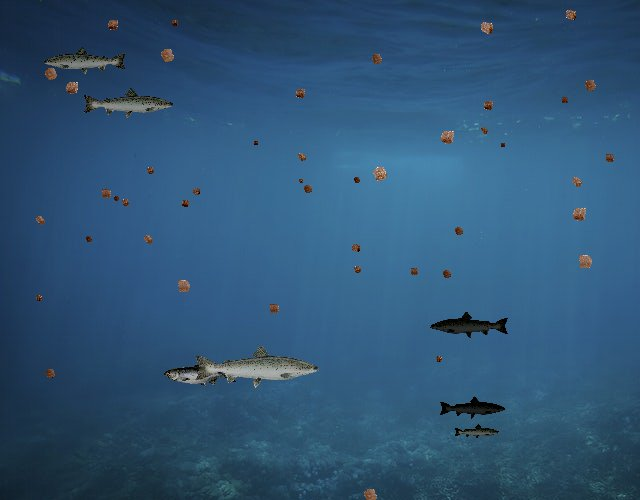Fish: (192, 343, 321, 389), (81, 86, 175, 120), (42, 45, 128, 76), (429, 311, 510, 340), (165, 361, 238, 388), (438, 396, 506, 420), (453, 424, 500, 441)
Pellet: (433, 123, 462, 152), (565, 200, 593, 228), (473, 15, 500, 42), (578, 73, 602, 97), (290, 83, 311, 104), (449, 221, 468, 240), (349, 261, 366, 278), (32, 291, 46, 305)
